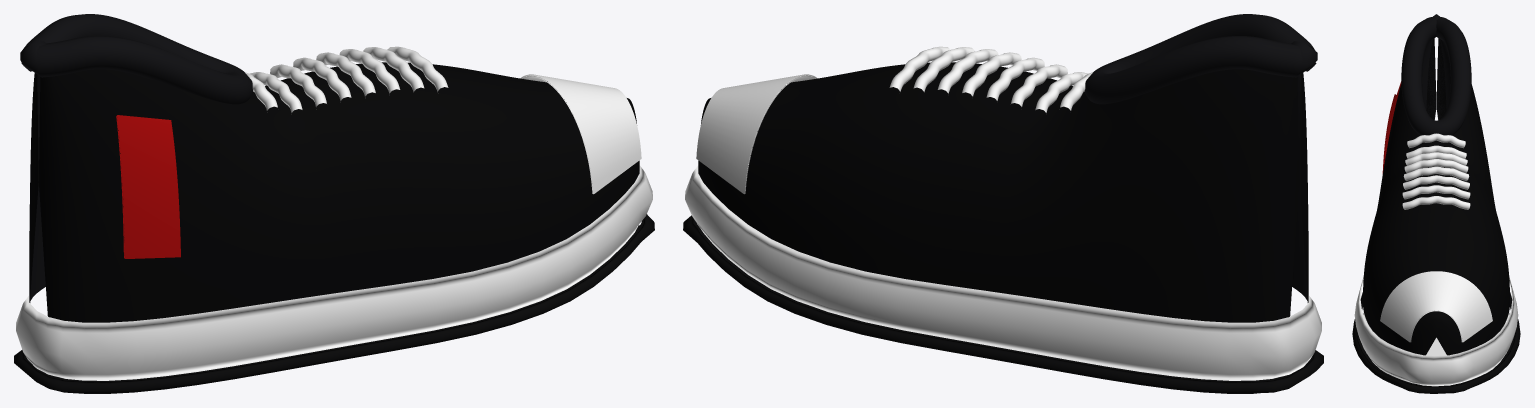
The model's file is summit-high-black.glb.
3 views of the same model, side by side, from view 1: azimuth 30°, elevation 25°; view 2: azimuth 150°, elevation 25°; view 3: azimuth 270°, elevation 25° (orthographic). The views are drawn at different scales.
Visible parts, largest first — view 1: upper, midsole, collar, outsole, ankle-patch, laces, toe-cap, lining; view 2: upper, midsole, collar, outsole, laces, toe-cap, lining; view 3: upper, midsole, collar, toe-cap, laces, outsole, lining, ankle-patch.
Boxes of the visible parts, x1,y1,x2,y2 form: upper: (29, 62, 639, 322); midsole: (16, 165, 652, 380); collar: (20, 14, 252, 104); outsole: (14, 214, 654, 393); ankle-patch: (116, 115, 180, 258); laces: (245, 46, 448, 112); toe-cap: (520, 74, 641, 194); lining: (30, 74, 45, 302); upper: (698, 62, 1308, 322); midsole: (685, 165, 1321, 380); collar: (1085, 14, 1317, 104); outsole: (683, 215, 1323, 393); laces: (889, 46, 1092, 112); toe-cap: (696, 74, 817, 194); lining: (1292, 74, 1307, 302); upper: (1363, 38, 1509, 355); midsole: (1354, 277, 1518, 386); collar: (1401, 14, 1471, 135); toe-cap: (1380, 271, 1492, 342); laces: (1402, 133, 1470, 209); outsole: (1352, 292, 1520, 393); lining: (1422, 39, 1450, 119); ankle-patch: (1382, 81, 1401, 173).
Bounding box in the file's own units: 0.2956 × 0.1563 × 0.1124.
